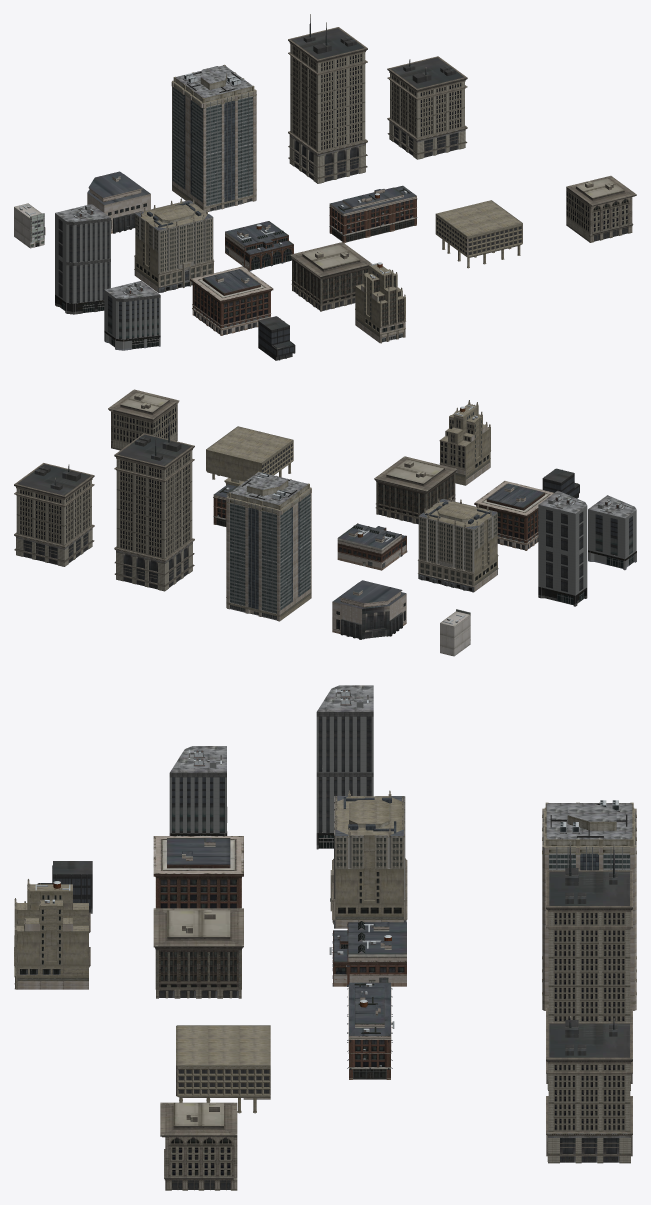
The model's file is b_downtown.glb.
3 renders of one model, top to bottom at view 1: azimuth 30°, elevation 25°; view 2: azimuth 150°, elevation 25°; view 3: azimuth 270°, elevation 25°, orthographic. The views are drawn at different scales.
Visible parts, largest first — view 1: Downtown_ModernOffice_5_Downtown_Facade_FLR_4_0, Downtown_ModernOffice_4_Downtown_International_Side_1_0, Downtown_ModernOffice_5_B_Downtown_Facade_FLR_4_0, Downtown_Residential_3, Downtown_ClassicOffice_1_Downtown_Facade_FLR_1_0, Downtown_Residential_4, Downtown_ModernOffice_1_B_Downtown_Firstfloortrim_FLR_1_0, Downtown_ModernOffice_4_Downtown_Concrete_FLR_1_0, Downtown_Residential_2_Downtown_Facade_FLR_3_0, Downtown_Brutal_1_Downtown_Concrete_FLR_1_0, Downtown_BrownstoneOffice_1_Downtown_Facade_FLR_2_0, Downtown_ArtDeco_1_Downtown_Concrete_FLR_1_0 (+18 smaller); view 2: Downtown_ModernOffice_5_Downtown_Facade_FLR_4_0, Downtown_ModernOffice_4_Downtown_International_Side_1_0, Downtown_ModernOffice_5_B_Downtown_Facade_FLR_4_0, Downtown_ClassicOffice_1_Downtown_Facade_FLR_1_0, Downtown_ModernOffice_4_Downtown_Concrete_FLR_1_0, Downtown_Residential_4, Downtown_Brutal_1_Downtown_Concrete_FLR_1_0, Downtown_ModernOffice_1_B_Downtown_Firstfloortrim_FLR_1_0, Downtown_Residential_3, Downtown_Residential_2_Downtown_Facade_FLR_3_0, Downtown_ModernOffice_5_Downtown_Modern_Firstfloor_FLR_1_0, Downtown_Mall_1_Downtown_Facade_FLR_2_0 (+16 smaller); view 3: Downtown_ModernOffice_5_Downtown_Facade_FLR_4_0, Downtown_ModernOffice_5_B_Downtown_Facade_FLR_4_0, Downtown_Residential_4, Downtown_ArtDeco_1_Downtown_Concrete_FLR_1_0, Downtown_Residential_3, Downtown_Brutal_1_Downtown_Concrete_FLR_1_0, Downtown_Residential_2_Downtown_Facade_FLR_3_0, Downtown_ClassicOffice_1_Downtown_Concrete_FLR_1_0, Downtown_Mall_1_Downtown_Facade_FLR_2_0, Downtown_ModernOffice_4_Downtown_Concrete_FLR_1_0, Downtown_ModernOffice_5_B_Downtown_Modern_Firstfloor_FLR_1_0, Downtown_ModernOffice_1_B_Downtown_Firstfloortrim_FLR_1_0 (+13 smaller).
Part boxes in pixels (<box>): Downtown_ModernOffice_5_Downtown_Facade_FLR_4_0: <box>288,27,367,183</box>; Downtown_ModernOffice_4_Downtown_International_Side_1_0: <box>172,87,252,206</box>; Downtown_ModernOffice_5_B_Downtown_Facade_FLR_4_0: <box>387,56,467,159</box>; Downtown_Residential_3: <box>190,266,273,335</box>; Downtown_ClassicOffice_1_Downtown_Facade_FLR_1_0: <box>134,200,213,292</box>; Downtown_Residential_4: <box>290,242,372,311</box>; Downtown_ModernOffice_1_B_Downtown_Firstfloortrim_FLR_1_0: <box>55,206,110,314</box>; Downtown_ModernOffice_4_Downtown_Concrete_FLR_1_0: <box>171,64,256,211</box>; Downtown_Residential_2_Downtown_Facade_FLR_3_0: <box>566,175,636,242</box>; Downtown_Brutal_1_Downtown_Concrete_FLR_1_0: <box>435,200,522,268</box>; Downtown_BrownstoneOffice_1_Downtown_Facade_FLR_2_0: <box>329,185,417,243</box>; Downtown_ArtDeco_1_Downtown_Concrete_FLR_1_0: <box>355,264,405,343</box>; Downtown_ModernOffice_5_Downtown_Facade_FLR_4_0: <box>114,433,194,591</box>; Downtown_ModernOffice_4_Downtown_International_Side_1_0: <box>230,494,310,613</box>; Downtown_ModernOffice_5_B_Downtown_Facade_FLR_4_0: <box>14,463,94,566</box>; Downtown_ClassicOffice_1_Downtown_Facade_FLR_1_0: <box>418,499,497,592</box>; Downtown_ModernOffice_4_Downtown_Concrete_FLR_1_0: <box>226,471,311,621</box>; Downtown_Residential_4: <box>374,456,457,524</box>; Downtown_Brutal_1_Downtown_Concrete_FLR_1_0: <box>206,426,293,486</box>; Downtown_ModernOffice_1_B_Downtown_Firstfloortrim_FLR_1_0: <box>538,499,587,606</box>; Downtown_Residential_3: <box>474,481,553,550</box>; Downtown_Residential_2_Downtown_Facade_FLR_3_0: <box>108,389,179,450</box>; Downtown_ModernOffice_5_Downtown_Modern_Firstfloor_FLR_1_0: <box>117,419,191,589</box>; Downtown_Mall_1_Downtown_Facade_FLR_2_0: <box>337,523,407,570</box>; Downtown_ModernOffice_5_Downtown_Facade_FLR_4_0: <box>546,870,632,1090</box>; Downtown_ModernOffice_5_B_Downtown_Facade_FLR_4_0: <box>546,1022,632,1163</box>; Downtown_Residential_4: <box>153,908,243,998</box>; Downtown_ArtDeco_1_Downtown_Concrete_FLR_1_0: <box>14,883,88,989</box>; Downtown_Residential_3: <box>153,836,243,908</box>; Downtown_Brutal_1_Downtown_Concrete_FLR_1_0: <box>176,1025,270,1113</box>; Downtown_Residential_2_Downtown_Facade_FLR_3_0: <box>160,1102,237,1190</box>; Downtown_ClassicOffice_1_Downtown_Concrete_FLR_1_0: <box>335,796,403,928</box>; Downtown_Mall_1_Downtown_Facade_FLR_2_0: <box>332,922,406,986</box>; Downtown_ModernOffice_4_Downtown_Concrete_FLR_1_0: <box>542,802,636,1010</box>; Downtown_ModernOffice_5_B_Downtown_Modern_Firstfloor_FLR_1_0: <box>549,1016,629,1162</box>; Downtown_ModernOffice_1_B_Downtown_Firstfloortrim_FLR_1_0: <box>316,702,373,849</box>.
Bounding box in the file's own units: 359 × 103 × 255.
13 materials, 13 textured.
